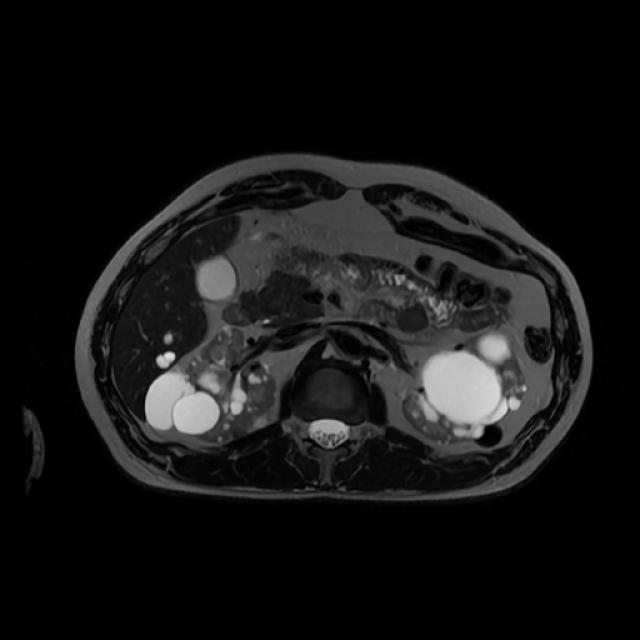sag: (147, 326, 278, 439)
sol: (405, 333, 525, 446)
